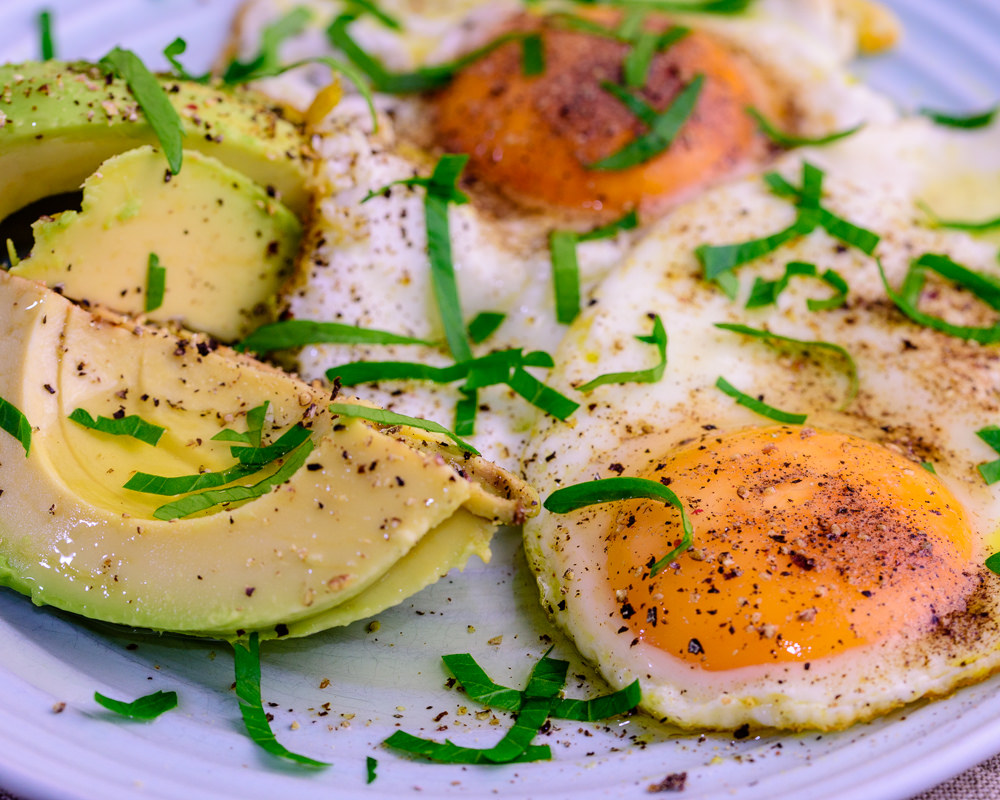fried egg: (252, 5, 852, 443), (544, 144, 1000, 711)
